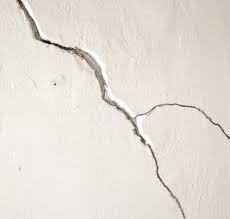crack: (16, 0, 133, 120), (130, 116, 185, 218), (131, 100, 229, 139)
